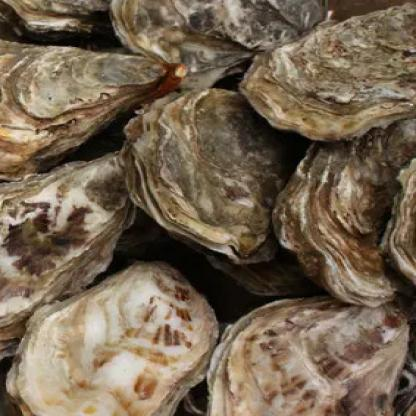Oyster- Indeterminate: (121, 88, 298, 264), (209, 295, 410, 416), (385, 160, 416, 280), (1, 0, 111, 33)
Oyster-Closed: (9, 260, 218, 416), (273, 117, 416, 306), (0, 149, 130, 354), (0, 42, 188, 177), (238, 1, 416, 141), (111, 0, 325, 70)
